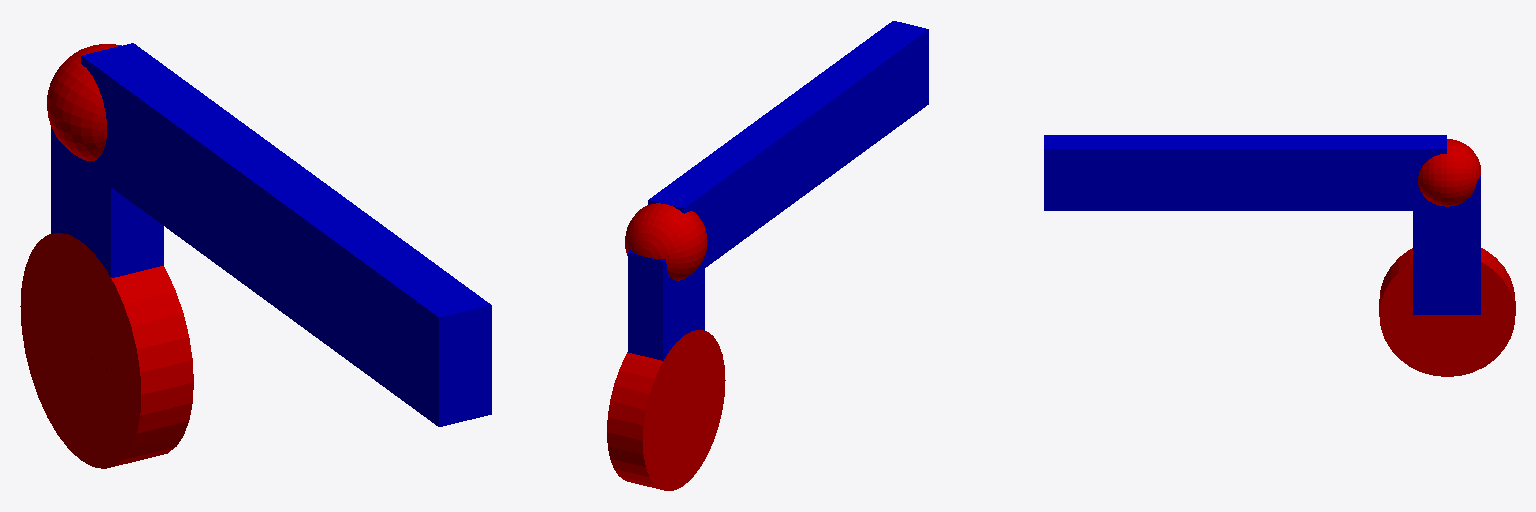
URDF robot description (TwoLinkStruct3462787964):
<?xml version="1.0"?>
<robot  name="TwoLinkStruct3462787964" >
 <material  name="blue" >
  <color  rgba="0 0 0.8 1.0" />
 </material>
 <material  name="red" >
  <color  rgba="0.8 0 0 1.0" />
 </material>
 <link  name="base_link" >
  <visual >
   <origin  rpy="0 1.5707 0"  xyz="0 0 0" />
   <material  name="red" />
   <geometry >
    <cylinder  length="0.05"  radius="0.1" />
   </geometry>
  </visual>
 </link>
 <joint  type="revolute"  name="joint1" >
  <parent  link="base_link" />
  <child  link="link1" />
  <origin  xyz="0 0 0"  rpy="0 0 0" />
  <axis  xyz="1 0 0" />
 </joint>
 <link  name="link1" >
  <inertial >
   <origin  rpy="0 0 0"  xyz="0 0 0.10954319447861552" />
   <mass  value="0.34899021286098825" />
   <inertia  ixy="0.0"  iyy="0.00014541258869207847"  izz="0.0014686335795134448"  ixz="0.0"  ixx="0.0014686335795134448"  iyz="0.0" />
  </inertial>
  <visual >
   <origin  rpy="0 0 0"  xyz="0 0 0.10954319447861552" />
   <material  name="blue" />
   <geometry >
    <box  size="0.05 0.1 0.21908638895723104" />
   </geometry>
  </visual>
 </link>
 <joint  type="fixed"  name="joint-joint-1" >
  <parent  link="link1" />
  <child  link="joint-link-1" />
  <origin  xyz="0 0 0.21908638895723104"  rpy="1.5707 0 0" />
  <axis  xyz="1 0 0" />
 </joint>
 <link  name="joint-link-1" >
  <inertial >
   <origin  rpy="0 0 0"  xyz="0 0 0" />
   <mass  value="2.984843372602056" />
   <inertia  ixy="0"  iyy="0"  izz="0"  ixz="0"  ixx="0"  iyz="0" />
  </inertial>
  <visual >
   <origin  rpy="0 0 0"  xyz="0 0 0" />
   <material  name="red" />
   <geometry >
    <sphere  radius="0.05" />
   </geometry>
  </visual>
 </link>
 <joint  type="revolute"  name="joint2" >
  <parent  link="link1" />
  <child  link="link2" />
  <origin  xyz="0 0 0.21908638895723104"  rpy="1.5707 0 0" />
  <axis  xyz="1 0 0" />
 </joint>
 <link  name="link2" >
  <inertial >
   <origin  rpy="0 0 0"  xyz="0 0 0.2958607401822444" />
   <mass  value="1.426204567909888" />
   <inertia  ixy="0.0"  iyy="0.00014541258869207847"  izz="0.010255493585193292"  ixz="0.0"  ixx="0.010255493585193292"  iyz="0.0" />
  </inertial>
  <visual >
   <origin  rpy="0 0 0"  xyz="0 0 0.2958607401822444" />
   <material  name="blue" />
   <geometry >
    <box  size="0.05 0.1 0.5917214803644888" />
   </geometry>
  </visual>
 </link>
 <joint  type="fixed"  name="eef_joint" >
  <parent  link="link2" />
  <child  link="eef" />
  <origin  xyz="0 0 0.5917214803644888"  rpy="0 0 0" />
 </joint>
 <link  name="eef" >
  <inertial >
   <origin  rpy="0 0 0"  xyz="0 0 0" />
   <mass  value="1" />
   <inertia  ixy="0"  iyy="0"  izz="0"  ixz="0"  ixx="0"  iyz="0" />
  </inertial>
 </link>
 <transmission  name="motor1" >
  <type  xmltext="SimpleTransmission" >
   SimpleTransmission
  </type>
  <actuator  name="motor1" >
   <mechanicalreduction  xmltext="1" >
    1
   </mechanicalreduction>
  </actuator>
  <joint  name="joint1" />
 </transmission>
 <transmission  name="motor2" >
  <type  xmltext="SimpleTransmission" >
   SimpleTransmission
  </type>
  <actuator  name="motor2" >
   <mechanicalreduction  xmltext="1" >
    1
   </mechanicalreduction>
  </actuator>
  <joint  name="joint2" />
 </transmission>
</robot>

<!-- {'carti': array([-0.1 ,  0.14,  0.85]), 'cartd': array([-0.1 ,  0.32,  1.29]), 'tau_mu': 0.3576874454411615, 'b0': 0.41560038395491705, 'Km': 4.06532187359461, 'k_velocity': 0.01, 'tau_max_m': 3.8067945950278164, 'omega_max_m': 9000.0, 'gear_ratio': 17.468414392315882, 'Kp': 24.342155481672414, 'Kd': 85.35006536592803, 'm_m': 2.984843372602056, 'l1': 0.21908638895723104, 'l2': 0.5917214803644888, 'k1': 7462.367977240889, 'k2': 1000.0, 'k3': 183347064.69753742}-->

--- What the picture shows (computed from the rendered views, not written in the file) ---
The picture shows the robot from 3 angles, left to right: view 1: azimuth 30°, elevation 25°; view 2: azimuth 150°, elevation 25°; view 3: azimuth 270°, elevation 25°; orthographic projection.
Model TwoLinkStruct3462787964 with 5 links and 4 joints (2 revolute, 2 fixed), rooted at base_link, posed every joint at zero.
Visible links, largest first — view 1: link2, base_link, link1, joint-link-1; view 2: link2, base_link, link1, joint-link-1; view 3: link2, base_link, link1, joint-link-1.
Link boxes in pixels (x1,y1,x2,y2): link2: (81,43,491,426); base_link: (20,233,193,468); link1: (51,127,163,369); joint-link-1: (47,44,121,160); link2: (648,21,928,281); base_link: (607,330,725,490); link1: (628,250,704,360); joint-link-1: (625,203,707,280); link2: (1044,135,1446,210); base_link: (1379,248,1515,376); link1: (1413,176,1480,314); joint-link-1: (1418,139,1480,206).
Size in the robot's own frame: 0.1 by 0.6917 by 0.3691 metres.
Geometry: primitives only (box / cylinder / sphere), no mesh files.
